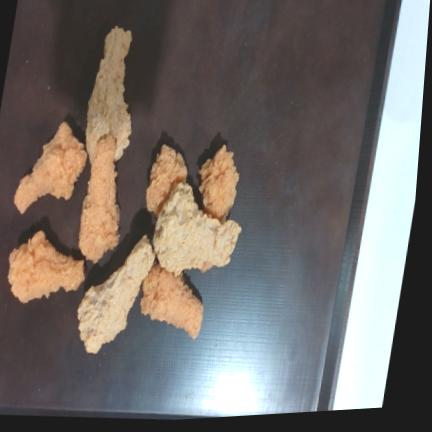chicken: (78, 235, 155, 353), (154, 184, 241, 274), (14, 122, 87, 213), (86, 28, 131, 160), (8, 231, 84, 303), (79, 135, 120, 262), (141, 263, 203, 339), (199, 145, 239, 223), (147, 145, 188, 218)
